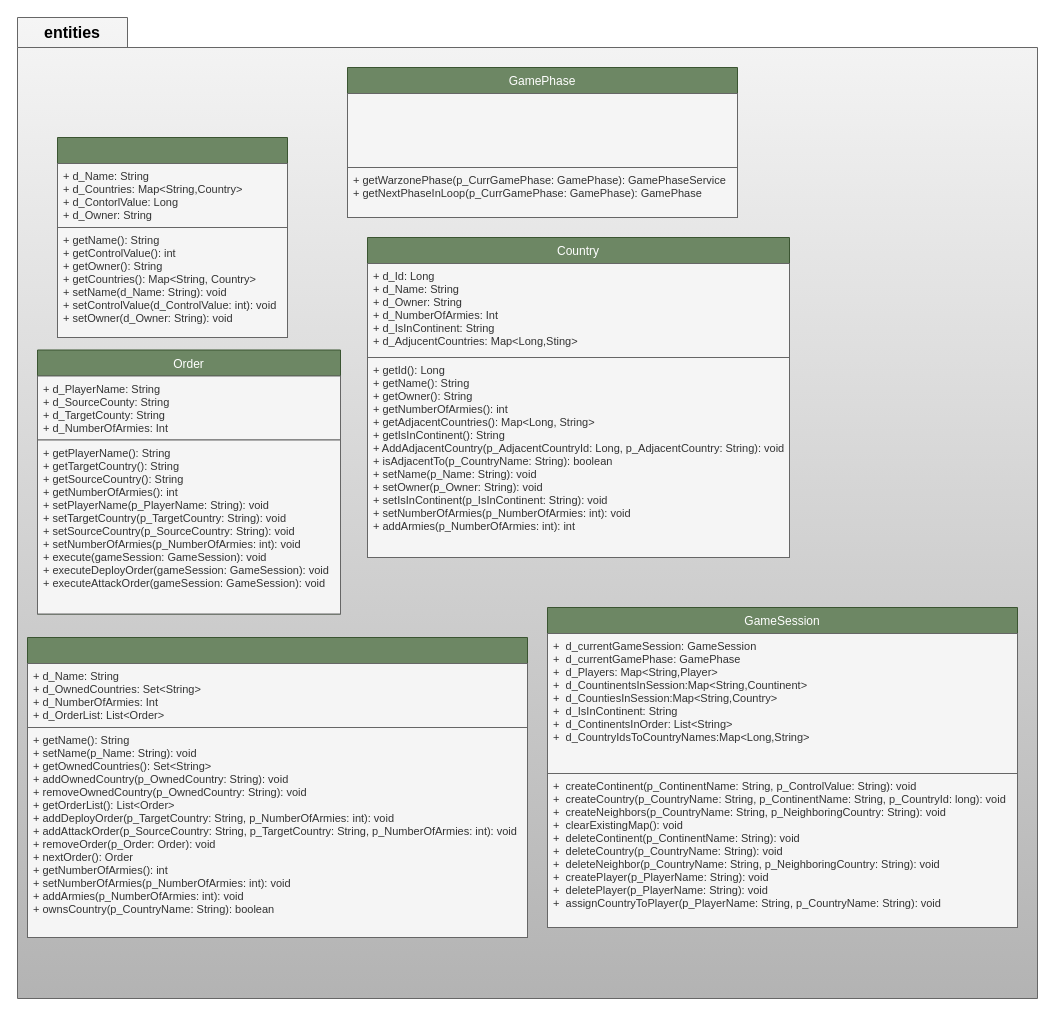
This 1055x1016 diagram has some shape labels left out. The shapes that lost their labels are listed below. From the top down, each one's box as (x1, y1, x2, y2) in pixels, then its label:
(346, 92, 738, 168): MAP_EDITOR START_UP MAIN_GAME_LOOP REINFORCEMENT ISSUE_ORDERS EXECUTE_ORDERS
(56, 136, 288, 338): Continent
(26, 636, 528, 938): Player
